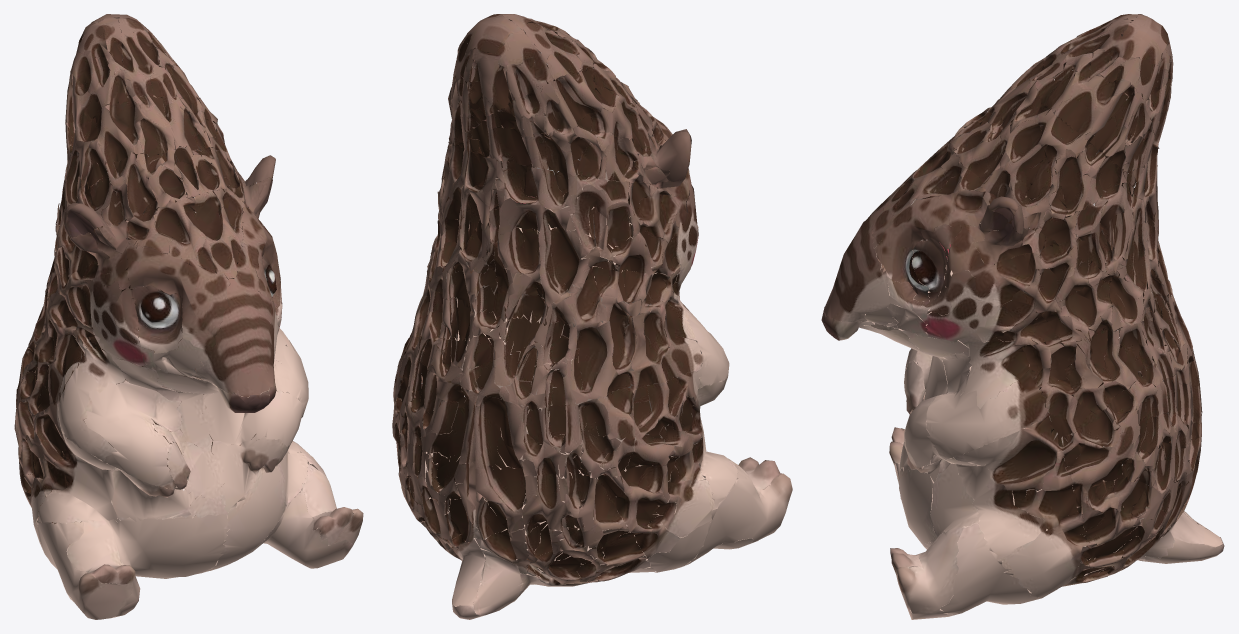
3 renders of one model, left to right at view 1: azimuth 30°, elevation 25°; view 2: azimuth 150°, elevation 25°; view 3: azimuth 270°, elevation 25°, orthographic. The views are drawn at different scales.
Visible parts, largest first — view 1: Mesh_0; view 2: Mesh_0; view 3: Mesh_0.
Boxes of the visible parts, left/top/right/bottom form: Mesh_0: left=14, top=14, right=363, bottom=619; Mesh_0: left=392, top=14, right=792, bottom=619; Mesh_0: left=821, top=14, right=1224, bottom=619.
Size of the model in its own units: 1.13 by 1.9 by 1.29.
Materials: 1 (1 with a texture image).
